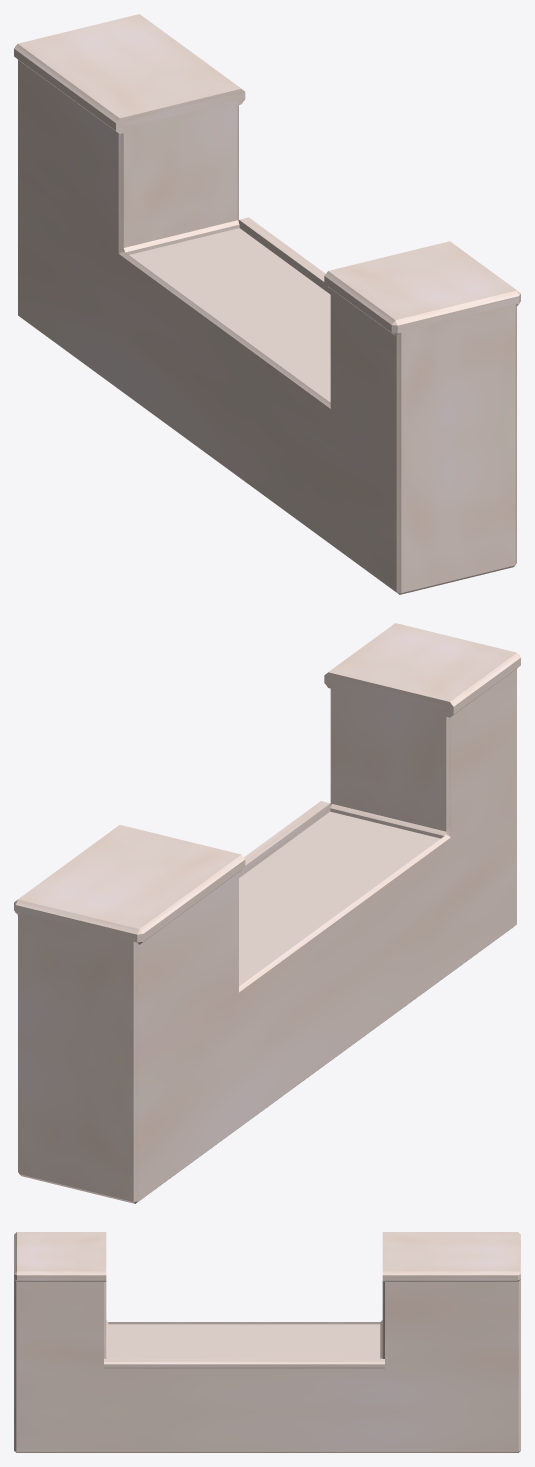
The model's file is glassboard.obj.
The picture shows the model from 3 angles, top to bottom: view 1: azimuth 30°, elevation 25°; view 2: azimuth 150°, elevation 25°; view 3: azimuth 270°, elevation 25°; orthographic projection. The views are drawn at different scales.
Parts seen in each view (by area): view 1: group62 _Glassboard1:pCube6, group62 _Glassboard1:pCube9, group62 _Glassboard1:pCube3, _Glassboard1:pCube10 group62; view 2: group62 _Glassboard1:pCube6, group62 _Glassboard1:pCube9, group62 _Glassboard1:pCube3, _Glassboard1:pCube10 group62; view 3: group62 _Glassboard1:pCube6, group62 _Glassboard1:pCube9, group62 _Glassboard1:pCube3, _Glassboard1:pCube10 group62.
Boxes of the visible parts, x1,y1,x2,y2 form: group62 _Glassboard1:pCube6: [18, 60, 516, 594]; group62 _Glassboard1:pCube9: [14, 14, 245, 133]; group62 _Glassboard1:pCube3: [324, 241, 520, 335]; _Glassboard1:pCube10 group62: [239, 217, 330, 290]; group62 _Glassboard1:pCube6: [18, 669, 516, 1203]; group62 _Glassboard1:pCube9: [14, 825, 245, 944]; group62 _Glassboard1:pCube3: [324, 623, 520, 717]; _Glassboard1:pCube10 group62: [239, 801, 330, 874]; group62 _Glassboard1:pCube6: [14, 1279, 520, 1452]; group62 _Glassboard1:pCube9: [382, 1232, 520, 1281]; group62 _Glassboard1:pCube3: [14, 1232, 106, 1281]; _Glassboard1:pCube10 group62: [104, 1359, 384, 1368].
Size of the model in its own units: 45.5 by 87.5 by 220.
